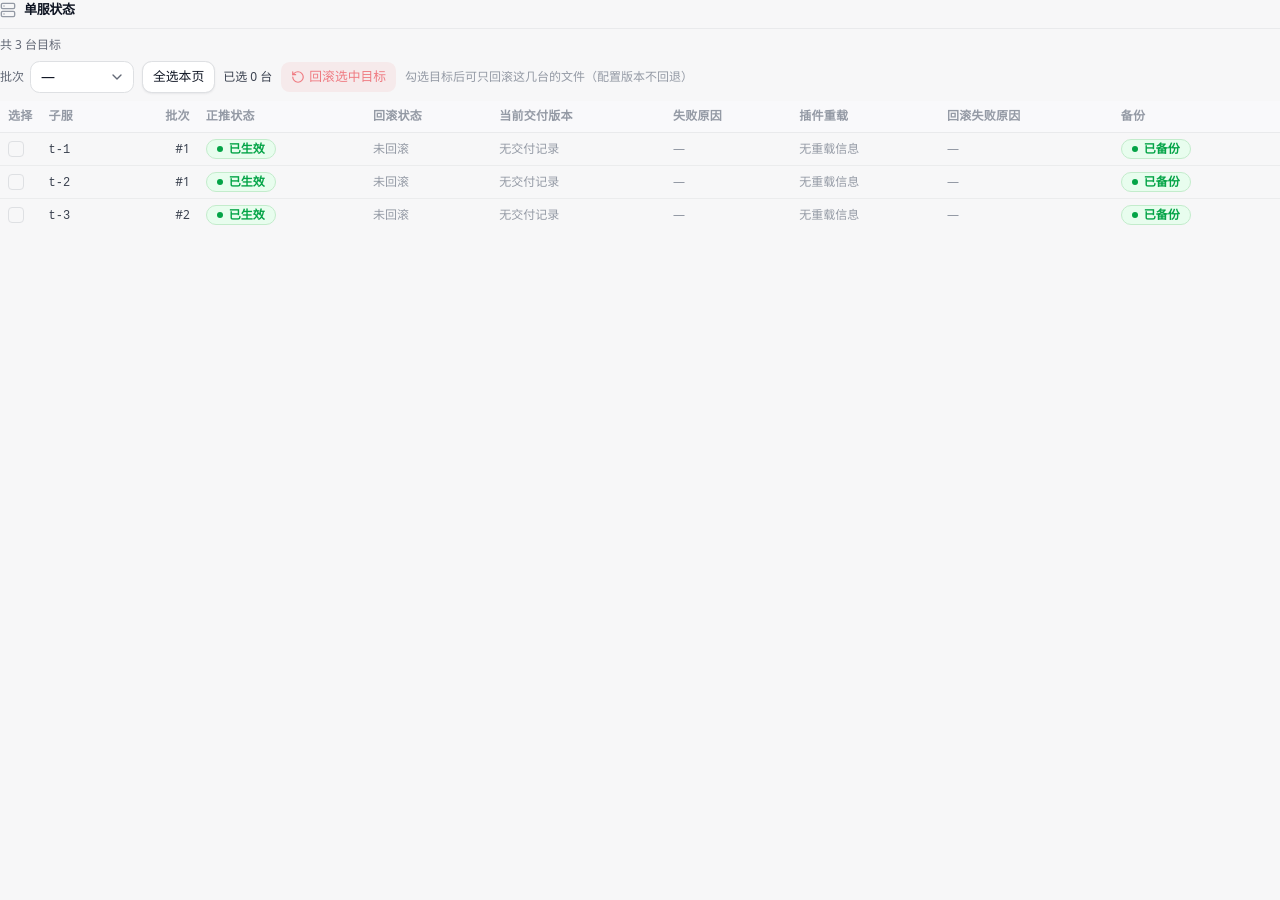
Test: 全选判定基数（可回滚口径） › 按批筛选勾满该批：仍按子集执行（提示配置不回退），不得因本页勾满而误判整单
This screenshot has width=1280, height=900.
expect the column heading "批次" is shown: met, box 119,100 -> 198,132
Note: 先筛到第 1 批（2 台），再勾满本批：按批筛选是组件库 Select，需展开后点选项
Click the dropdown named "批次". click: (82, 76)
box: 30,60 -> 134,92
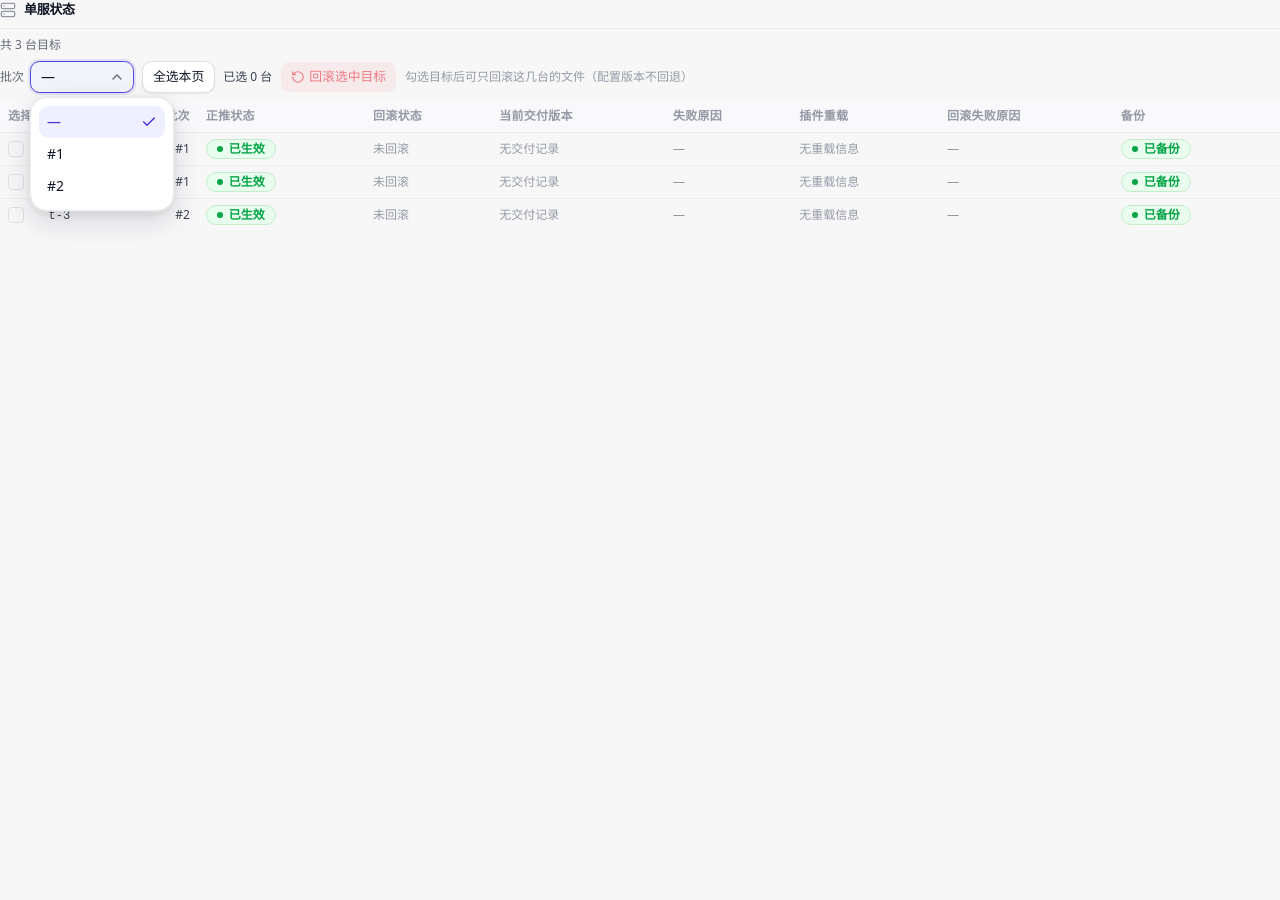
Click the option "#1". click: (56, 154)
box: 47,144 -> 64,163
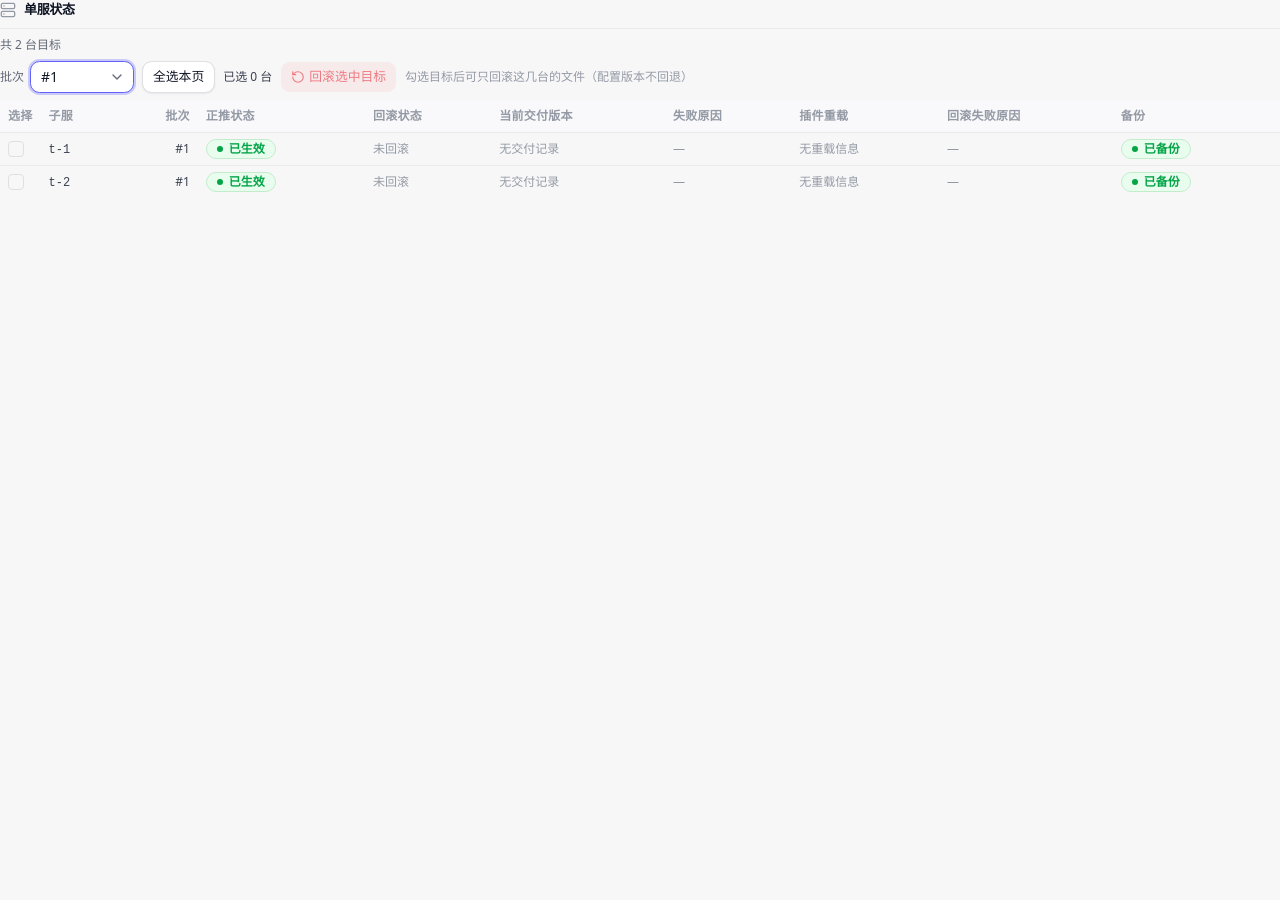
expect the text "t-3" is gone: met
Click the checkbox named "t-1". click: (16, 149)
box: 8,141 -> 24,157
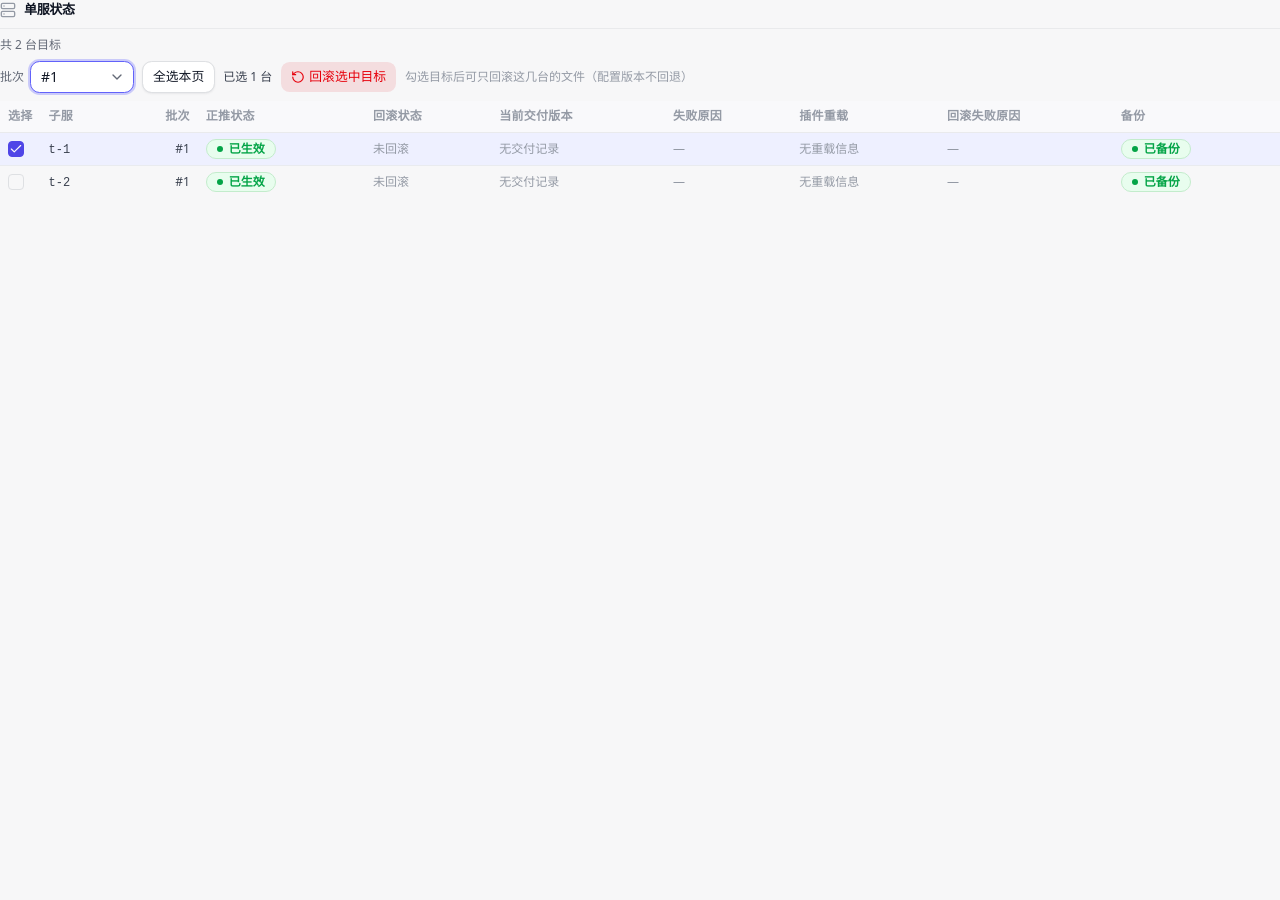
Click the checkbox named "t-2". click: (16, 182)
box: 8,174 -> 24,190
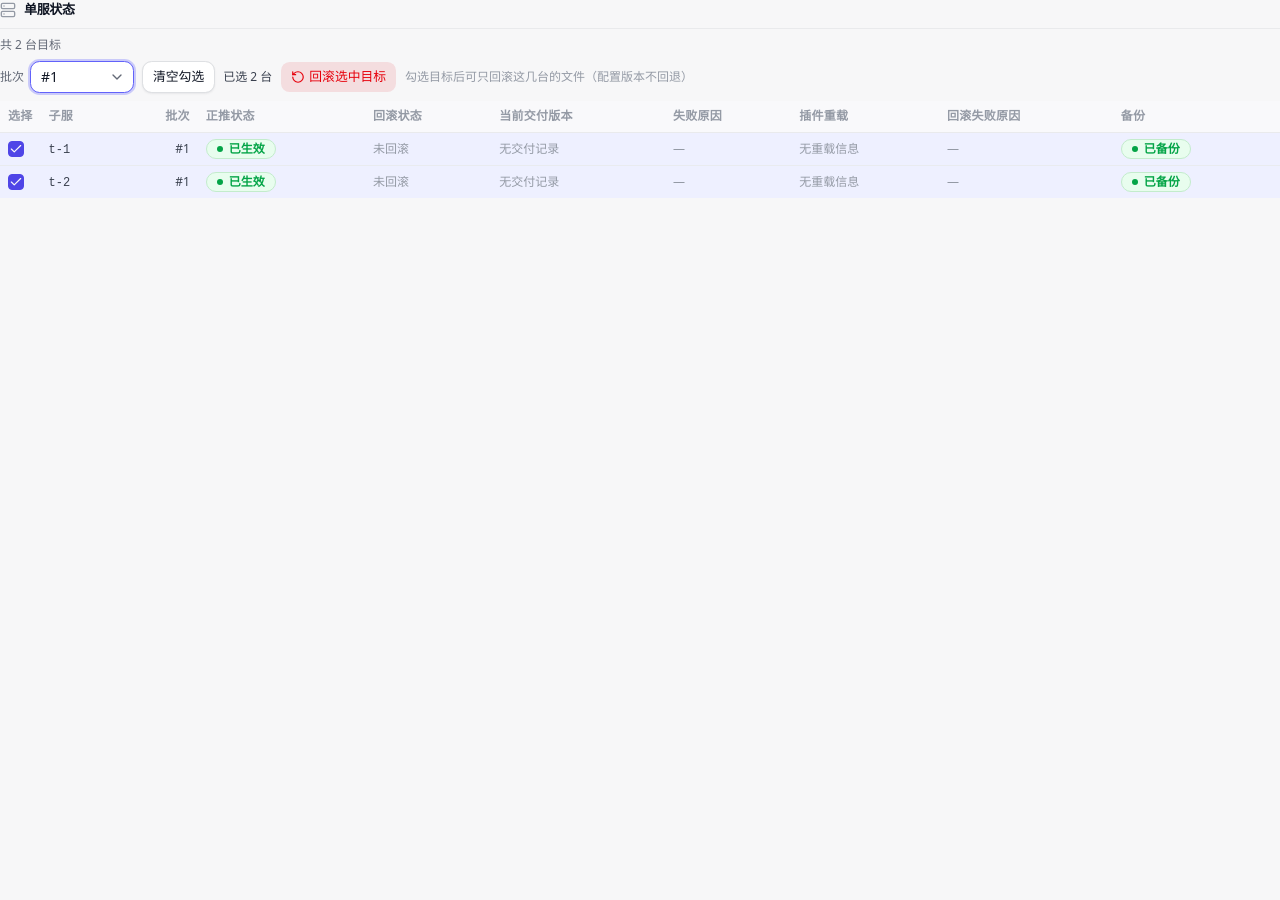
Click the button "回滚选中目标". click: (339, 76)
box: 280,60 -> 397,92
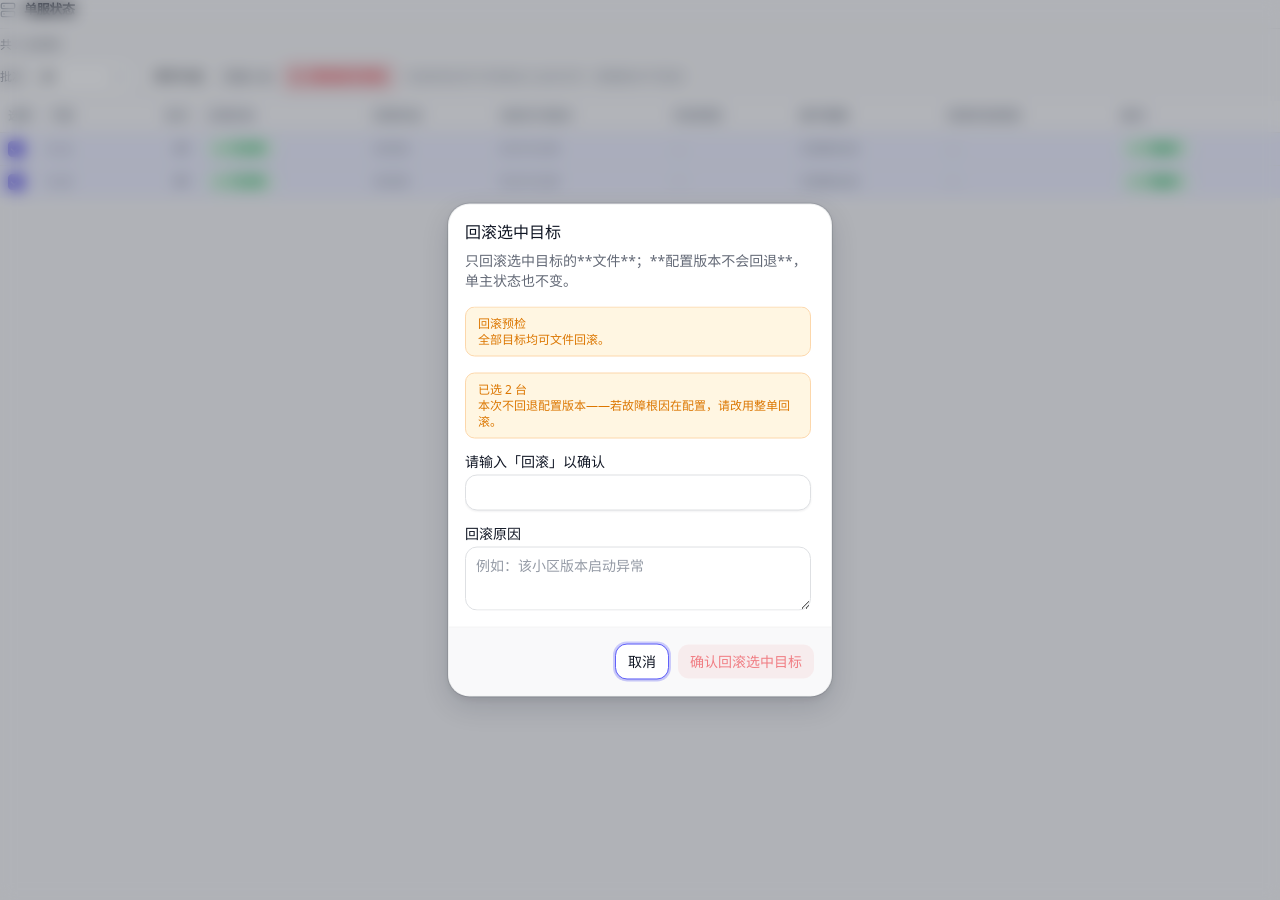
expect the text "本次不回退配置版本——若故障根因在配置，请改用整单回滚。" is shown: met, box 478,398 -> 798,430
